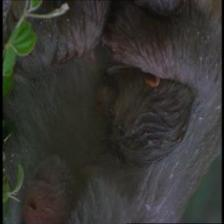monkey: (90, 51, 194, 169), (8, 154, 86, 222)
